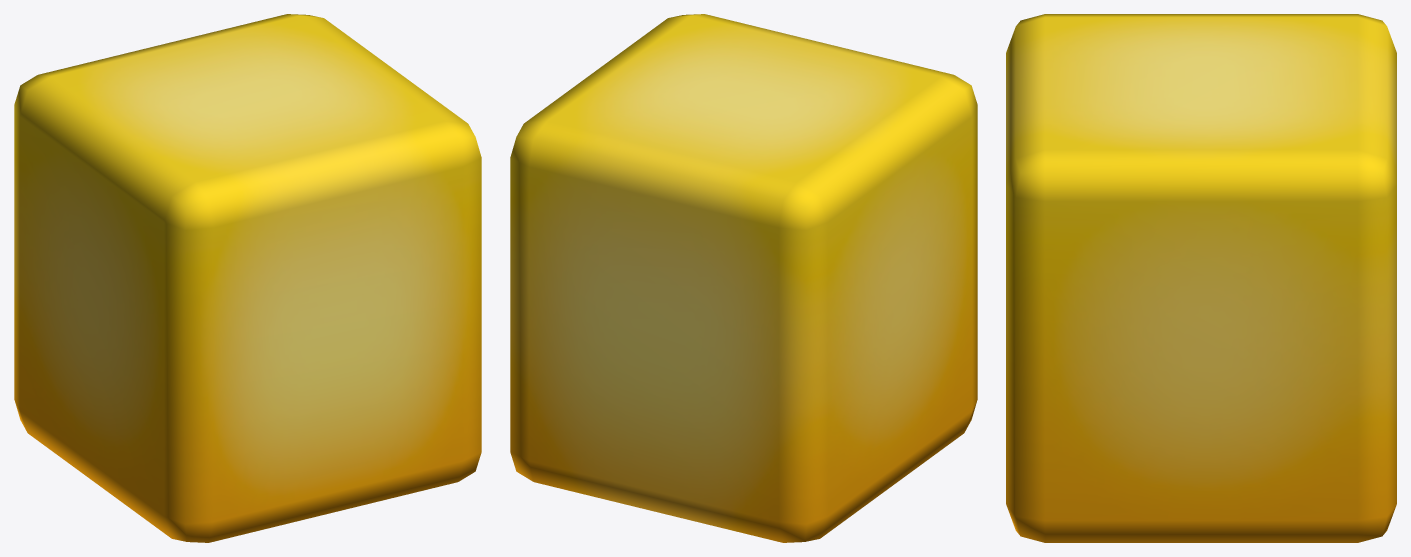
The model's file is FX_box_yellow.fbx.
3 renders of one model, left to right at view 1: azimuth 30°, elevation 25°; view 2: azimuth 150°, elevation 25°; view 3: azimuth 270°, elevation 25°, orthographic. The views are drawn at different scales.
Parts seen in each view (by area): view 1: FX_box_yellow; view 2: FX_box_yellow; view 3: FX_box_yellow.
Boxes of the visible parts, <box> form: FX_box_yellow: <box>14,14,481,542</box>; FX_box_yellow: <box>510,14,977,542</box>; FX_box_yellow: <box>1006,14,1396,542</box>.
Size of the model in its own units: 100 by 110 by 100.
Materials: 1 (1 with a texture image).
